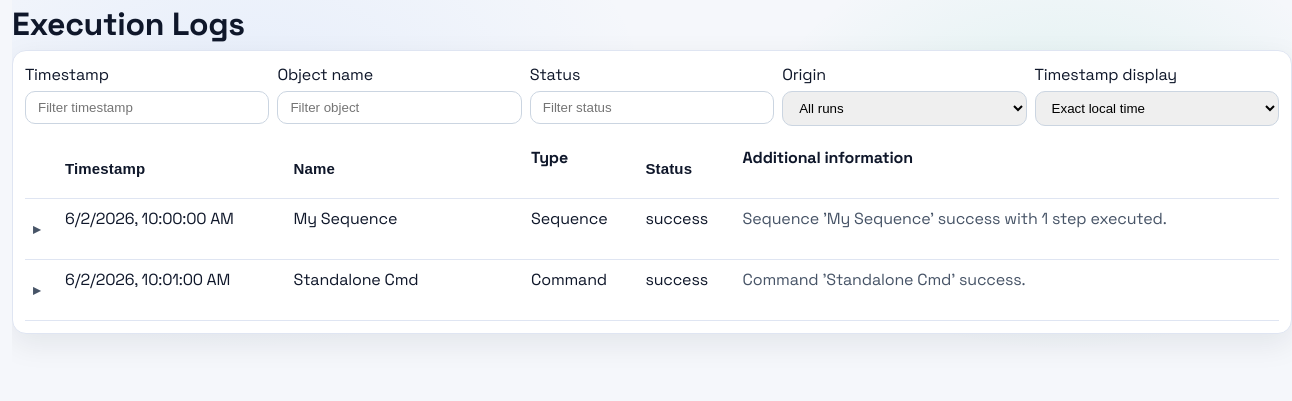
ExecutionLogsPage grid › makes a stand-alone command expandable and a leaf tap non-expandable
Check: the text "Standalone Cmd" is shown, box [286,260,523,321]
Click the button named "Expand sub-elements": (37, 290) [33,268,40,312]
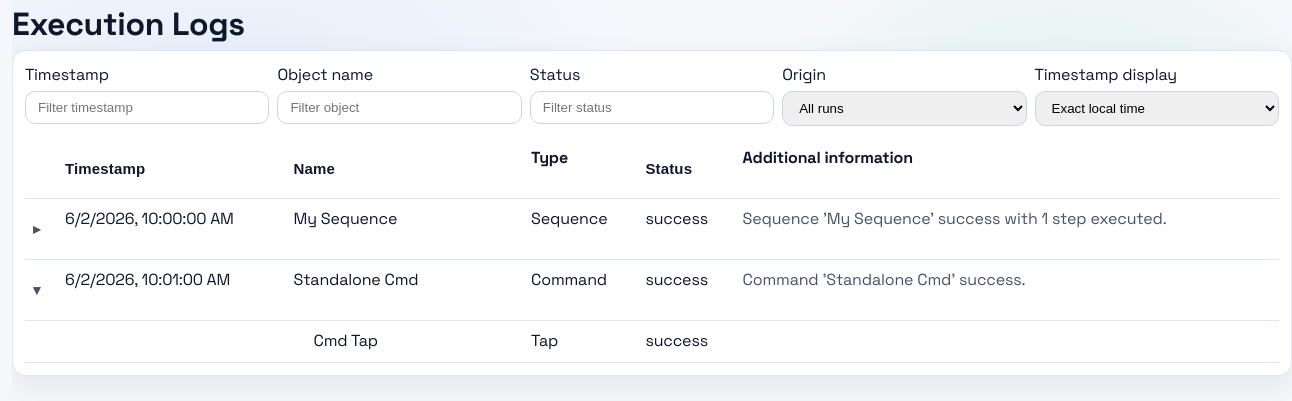
Check: the text "Cmd Tap" is shown, box [286,321,523,363]
